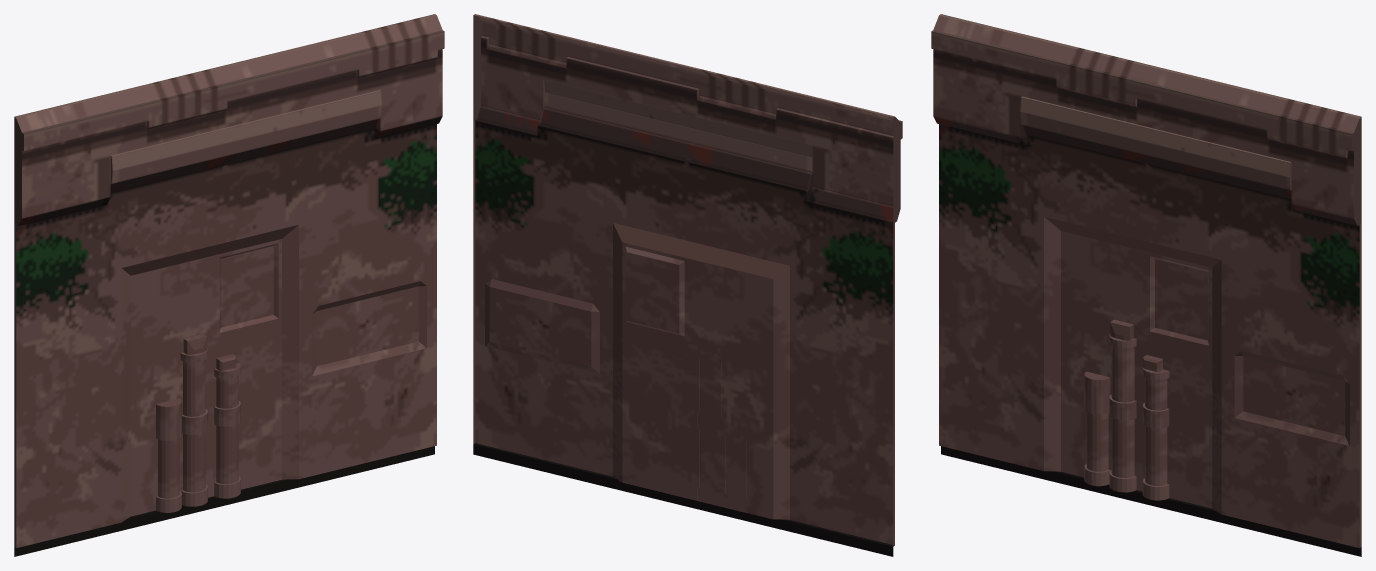
The model's file is grove2_1.fbx.
3 views of the same model, side by side, from view 1: azimuth 30°, elevation 25°; view 2: azimuth 150°, elevation 25°; view 3: azimuth 330°, elevation 25° (orthographic).
Visible parts, largest first — view 1: grove2_1_mesh, grove2_3_mesh.001; view 2: grove2_1_mesh, grove2_3_mesh.001; view 3: grove2_1_mesh, grove2_3_mesh.001.
Part boxes in pixels (x1=…): grove2_1_mesh: x1=14, y1=14, x2=444, y2=556; grove2_3_mesh.001: x1=16, y1=124, x2=436, y2=314; grove2_1_mesh: x1=473, y1=14, x2=902, y2=556; grove2_3_mesh.001: x1=475, y1=120, x2=893, y2=311; grove2_1_mesh: x1=931, y1=14, x2=1361, y2=556; grove2_3_mesh.001: x1=939, y1=124, x2=1359, y2=314.
Size of the model in its own units: 256 by 256 by 14.
